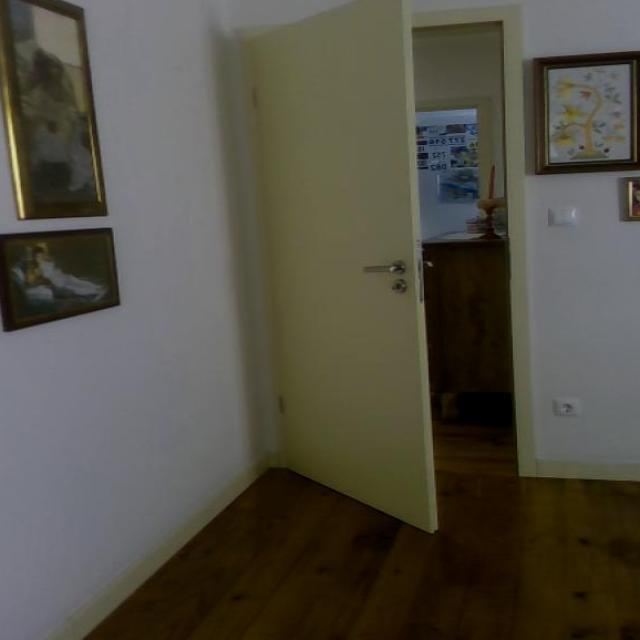door: (238, 0, 439, 534)
